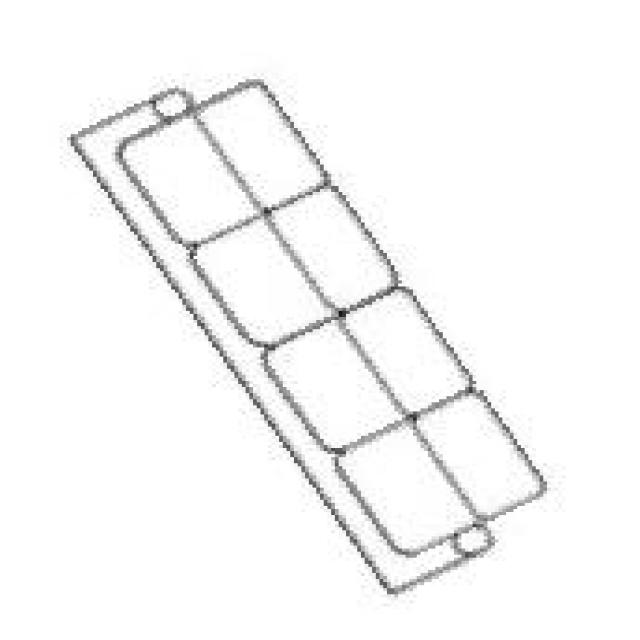sofa: (67, 76, 547, 591)
